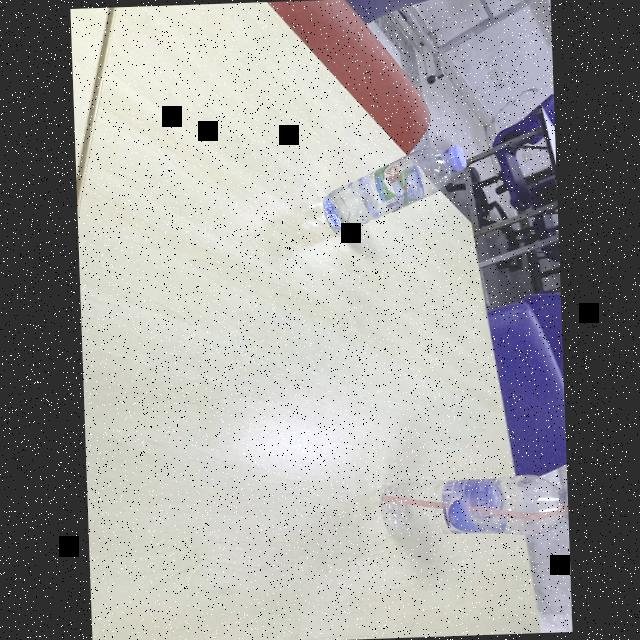plastic_bottle: (318, 144, 471, 233), (378, 472, 568, 540)
plastic_bottle_cap: (446, 145, 465, 171)
straw: (378, 487, 566, 525)
